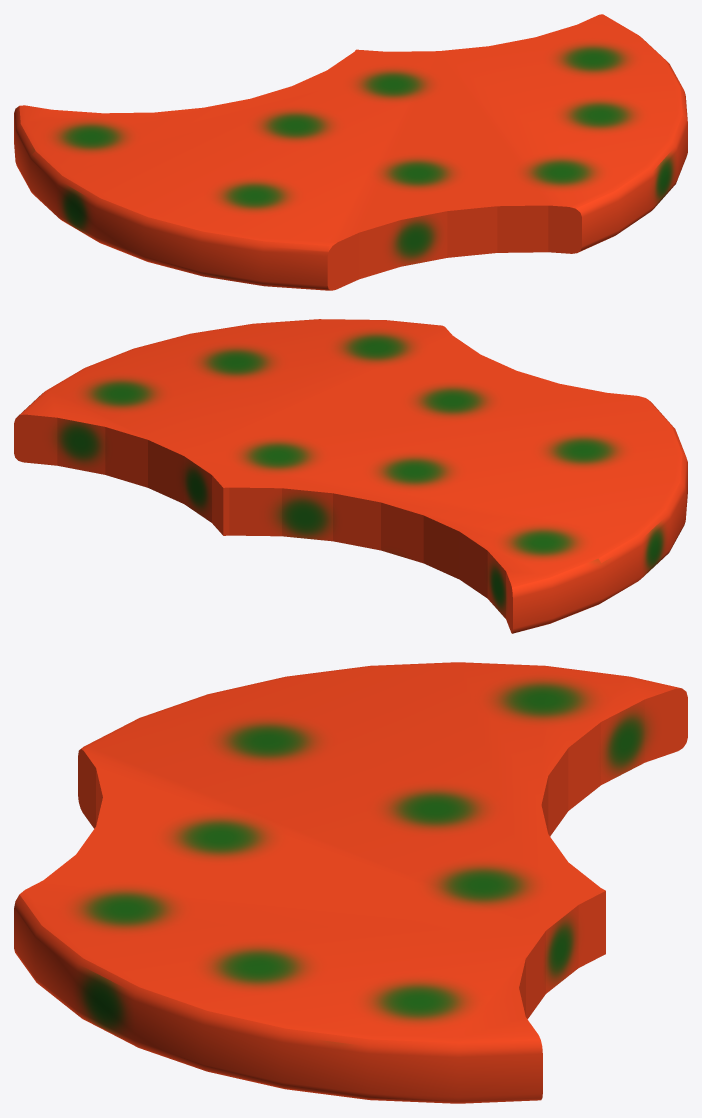
The model's file is Pepperoni.fbx.
3 renders of one model, top to bottom at view 1: azimuth 30°, elevation 25°; view 2: azimuth 150°, elevation 25°; view 3: azimuth 270°, elevation 25°, orthographic. The views are drawn at different scales.
Parts seen in each view (by area): view 1: Pepperoni; view 2: Pepperoni; view 3: Pepperoni.
Boxes of the visible parts, x1,y1,x2,y2 form: Pepperoni: (14, 14, 687, 290); Pepperoni: (14, 319, 687, 633); Pepperoni: (14, 662, 687, 1103).
Size of the model in its own units: 0.0589 by 0.00449 by 0.0433.
